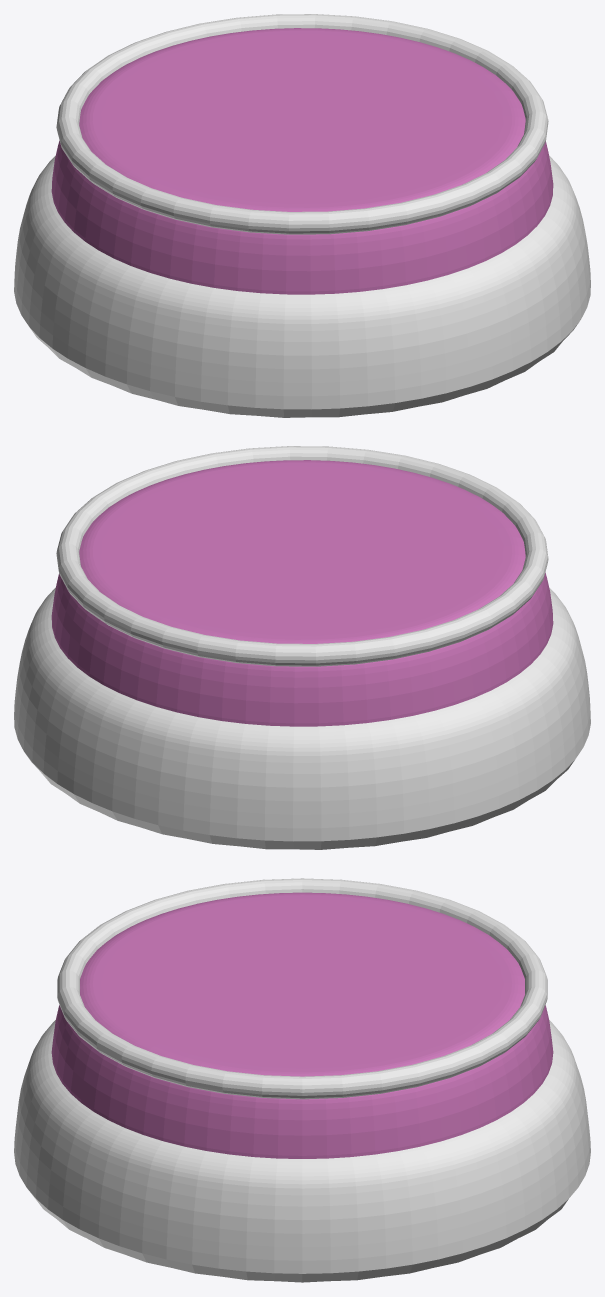
Rendered from _HashiOneNodeShare.fbx.
3 renders of one model, top to bottom at view 1: azimuth 30°, elevation 25°; view 2: azimuth 150°, elevation 25°; view 3: azimuth 270°, elevation 25°, orthographic.
Parts seen in each view (by area): view 1: _HashiOneNode, _HasHiNodeGroundOne, Torus.001; view 2: _HashiOneNode, _HasHiNodeGroundOne, Torus.001; view 3: _HashiOneNode, _HasHiNodeGroundOne, Torus.001.
Boxes of the visible parts, x1,y1,x2,y2 form: _HashiOneNode: [51, 28, 553, 294]; _HasHiNodeGroundOne: [14, 155, 590, 417]; Torus.001: [56, 14, 548, 234]; _HashiOneNode: [51, 460, 553, 726]; _HasHiNodeGroundOne: [14, 587, 590, 849]; Torus.001: [56, 446, 548, 666]; _HashiOneNode: [51, 892, 553, 1158]; _HasHiNodeGroundOne: [14, 1020, 590, 1282]; Torus.001: [57, 878, 547, 1099].
Size of the model in its own units: 226 by 226 by 85.98.
